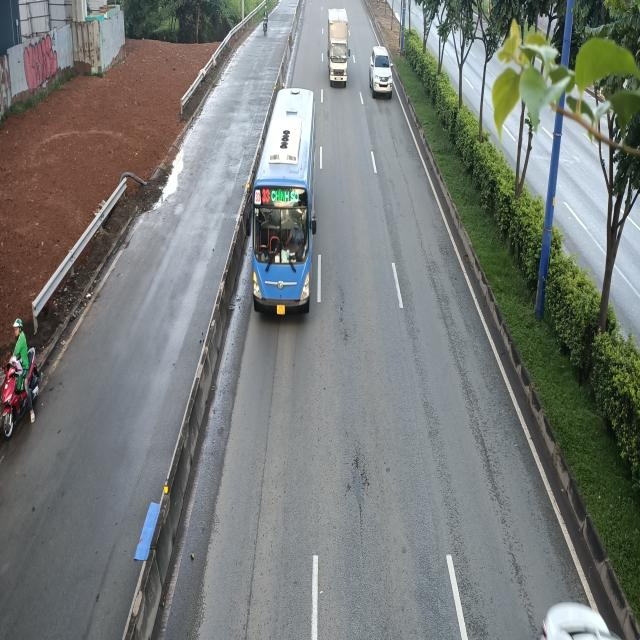car: (368, 44, 393, 96)
coach: (244, 91, 317, 319)
truck: (326, 7, 349, 87)
